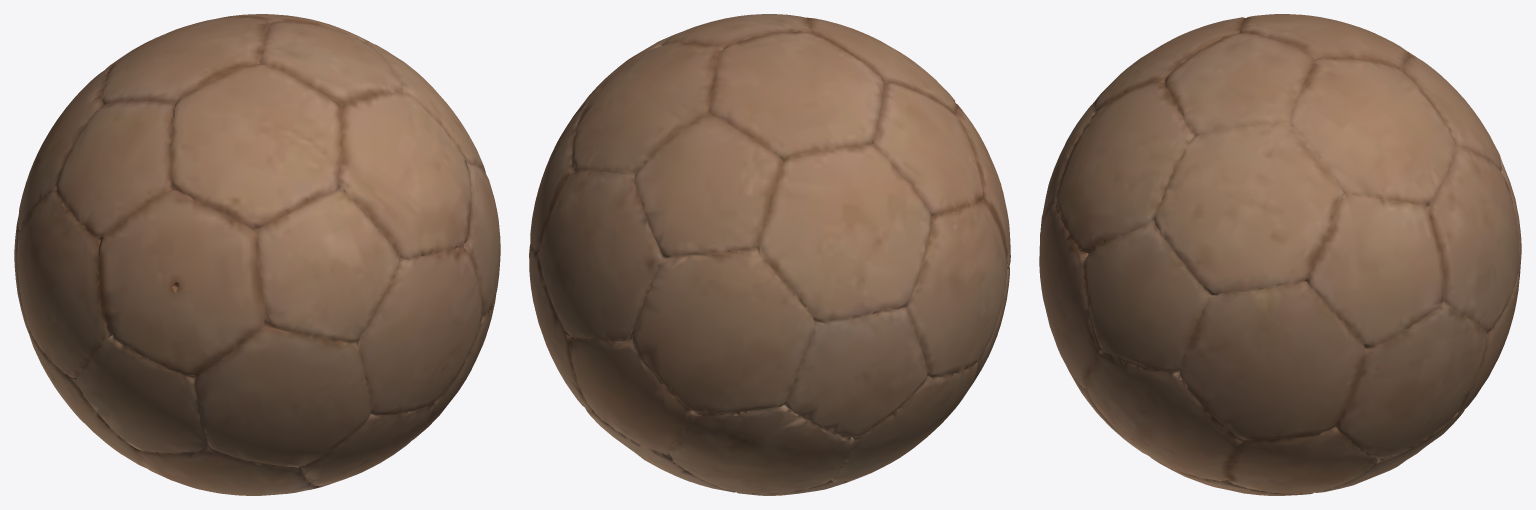
File: football.glb
3 renders of one model, left to right at view 1: azimuth 30°, elevation 25°; view 2: azimuth 150°, elevation 25°; view 3: azimuth 270°, elevation 25°, orthographic.
Parts seen in each view (by area): view 1: dirty_football; view 2: dirty_football; view 3: dirty_football.
Part boxes in pixels (box(x1,y1,x2,y2)): dirty_football: box(14, 14, 500, 495); dirty_football: box(529, 14, 1010, 495); dirty_football: box(1039, 14, 1521, 495).
Bounding box in the file's own units: 0.2211 × 0.22 × 0.2199.
Materials: 1 (1 with a texture image).
